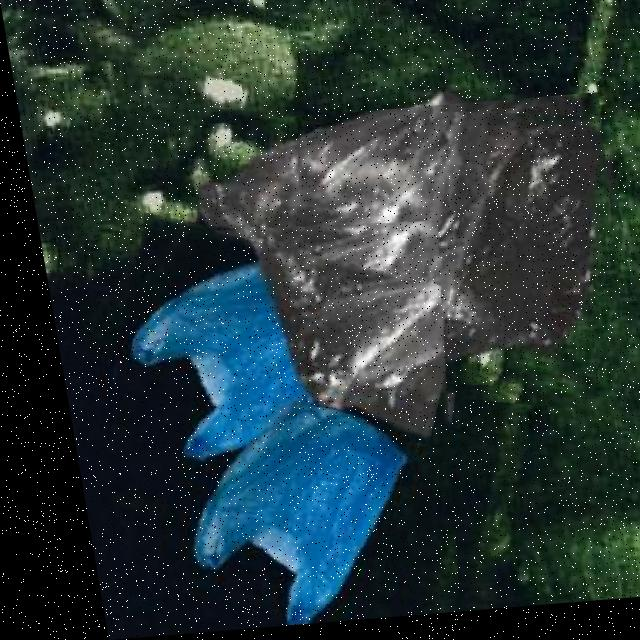plasticcover: (59, 214, 480, 638), (165, 102, 635, 432)
